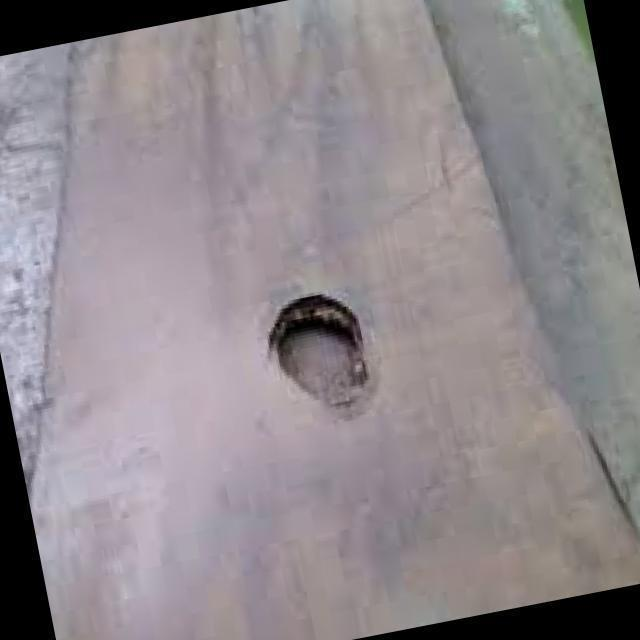Hole: (267, 290, 374, 420)
